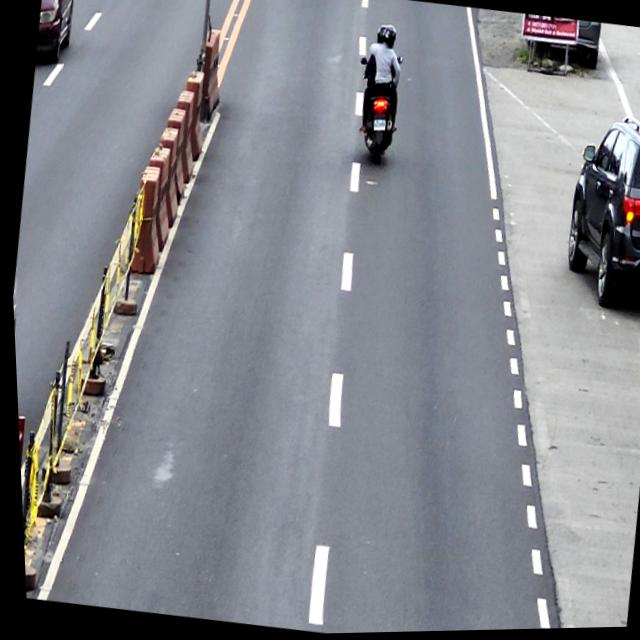Car: (550, 108, 640, 319)
License-Plate: (371, 118, 385, 134)
Motorcycle: (346, 55, 406, 168)
